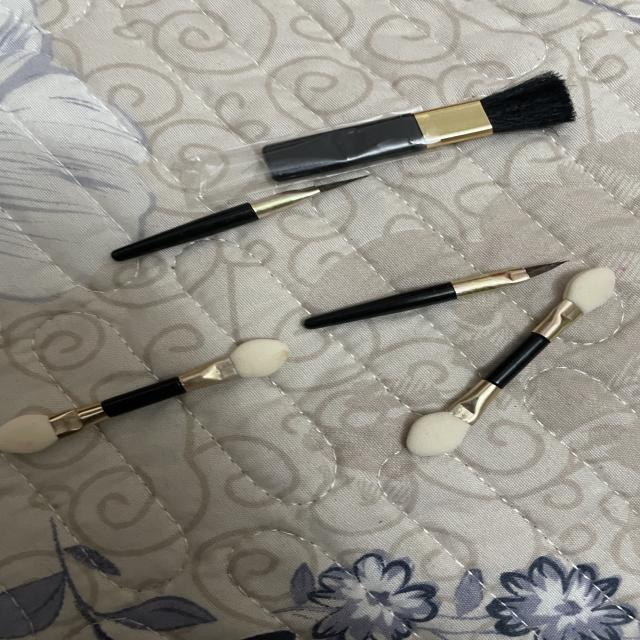beauty blender: (0, 329, 316, 470), (391, 380, 496, 481), (558, 258, 627, 336)
brush: (274, 67, 593, 178), (232, 162, 373, 225), (431, 243, 570, 305)
